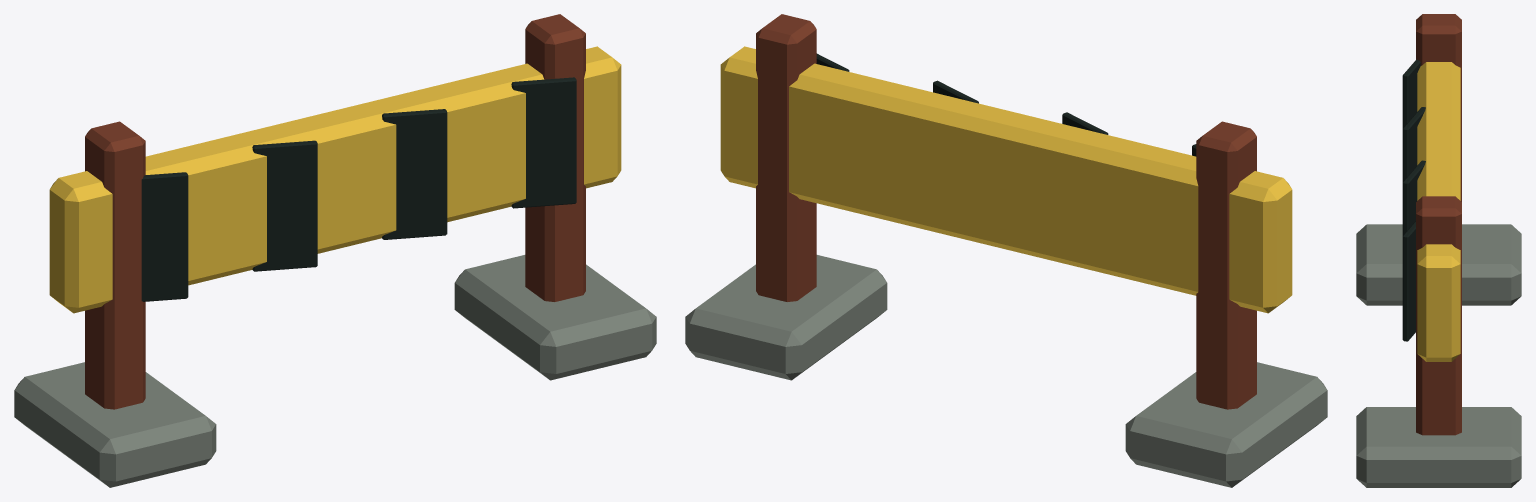
Rendered from barrier.glb.
3 renders of one model, left to right at view 1: azimuth 30°, elevation 25°; view 2: azimuth 150°, elevation 25°; view 3: azimuth 270°, elevation 25°, orthographic. The views are drawn at different scales.
Parts seen in each view (by area): view 1: Board, Foot, Foot.001, Post, Post.001, Stripe.002, Stripe.001, Stripe.003, Stripe; view 2: Board, Foot, Foot.001, Post, Post.001; view 3: Foot.001, Board, Foot, Post.001, Post, Stripe.003, Stripe.001, Stripe.002, Stripe.
Boxes of the visible parts, x1,y1,x2,y2 form: Board: (49,46,621,313); Foot: (14,362,216,487); Foot.001: (454,255,656,380); Post: (85,121,145,409); Post.001: (525,14,585,301); Stripe.002: (382,109,447,239); Stripe.001: (252,140,317,271); Stripe.003: (511,77,576,208); Stripe: (141,172,188,301); Board: (720,46,1292,313); Foot: (1125,362,1327,487); Foot.001: (685,255,887,380); Post: (1196,121,1256,409); Post.001: (756,14,816,301); Foot.001: (1356,407,1521,487); Board: (1417,62,1460,361); Foot: (1356,224,1521,305); Post.001: (1416,196,1461,435); Post: (1416,14,1461,201); Stripe.003: (1402,221,1415,341); Stripe.001: (1402,107,1425,182); Stripe.002: (1402,160,1425,235); Stripe: (1402,59,1420,128).
Bounding box in the file's own units: 2.15 × 1.15 × 0.65.
